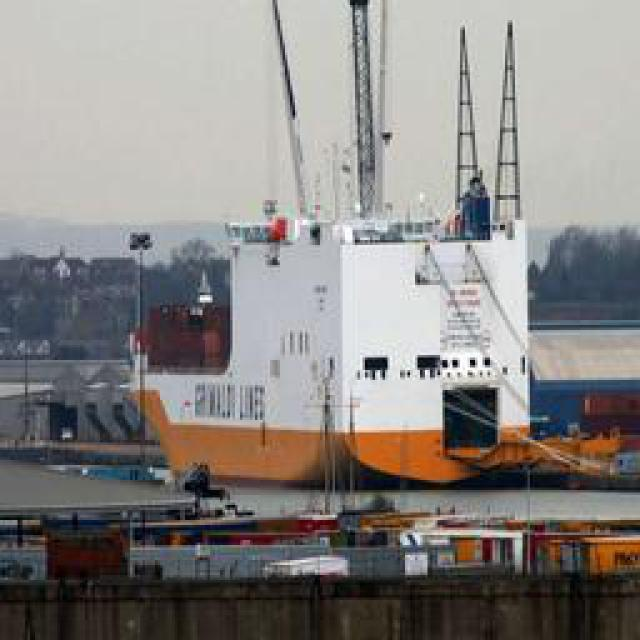Ship: (125, 193, 550, 489)
